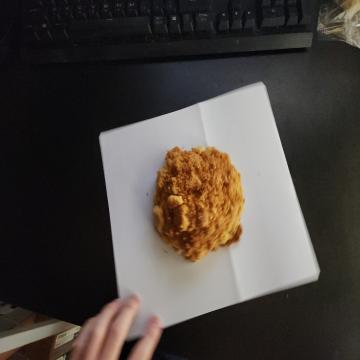soboru_bread: (150, 136, 249, 259)
